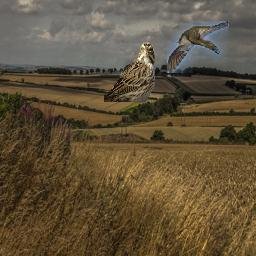Cuckoo: (167, 21, 229, 73)
Sparrow: (105, 42, 156, 102)
